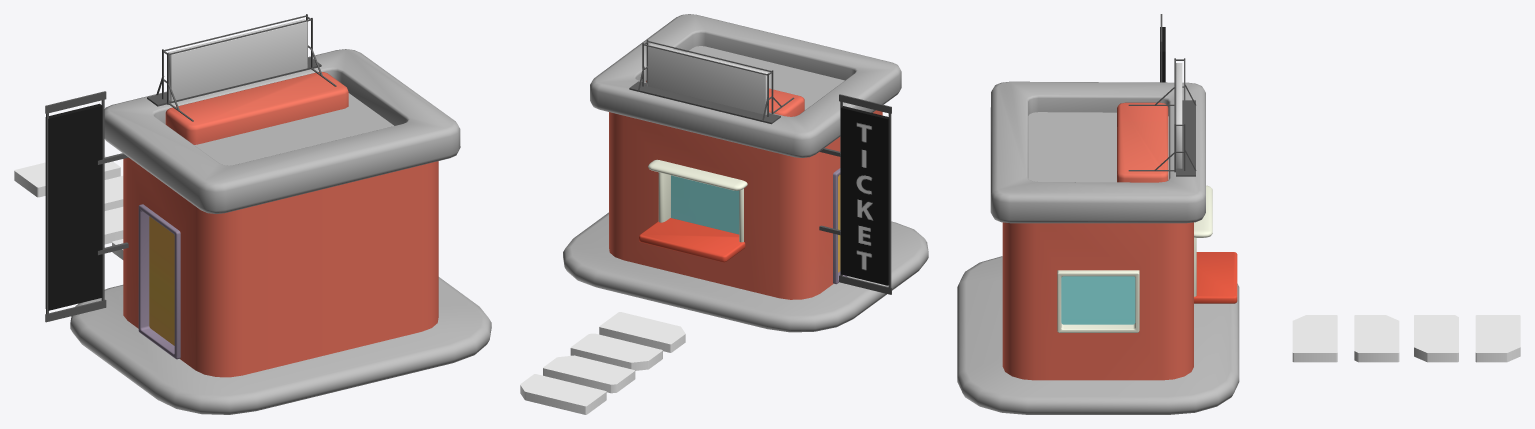
Rendered from ticket_office_red.fbx.
3 renders of one model, left to right at view 1: azimuth 30°, elevation 25°; view 2: azimuth 150°, elevation 25°; view 3: azimuth 270°, elevation 25°, orthographic. The views are drawn at different scales.
Parts seen in each view (by area): view 1: ticket_office_red, stone3, stone2, stone4; view 2: ticket_office_red, stone3, stone4, stone1, stone2; view 3: ticket_office_red, stone1, stone2, stone3, stone4.
Part boxes in pixels (bbox=[...]): ticket_office_red: bbox=[45, 14, 491, 414]; stone3: bbox=[14, 155, 120, 197]; stone2: bbox=[104, 207, 123, 244]; stone4: bbox=[104, 176, 123, 210]; ticket_office_red: bbox=[563, 14, 928, 332]; stone3: bbox=[520, 374, 606, 414]; stone4: bbox=[543, 355, 635, 393]; stone1: bbox=[599, 312, 685, 352]; stone2: bbox=[570, 333, 662, 370]; ticket_office_red: bbox=[957, 14, 1239, 414]; stone1: bbox=[1292, 315, 1337, 362]; stone2: bbox=[1354, 315, 1399, 362]; stone3: bbox=[1475, 315, 1520, 362]; stone4: bbox=[1414, 315, 1458, 362].
Bounding box in the file's own units: 511 × 360 × 729.
Materials: 6 (5 with a texture image).
